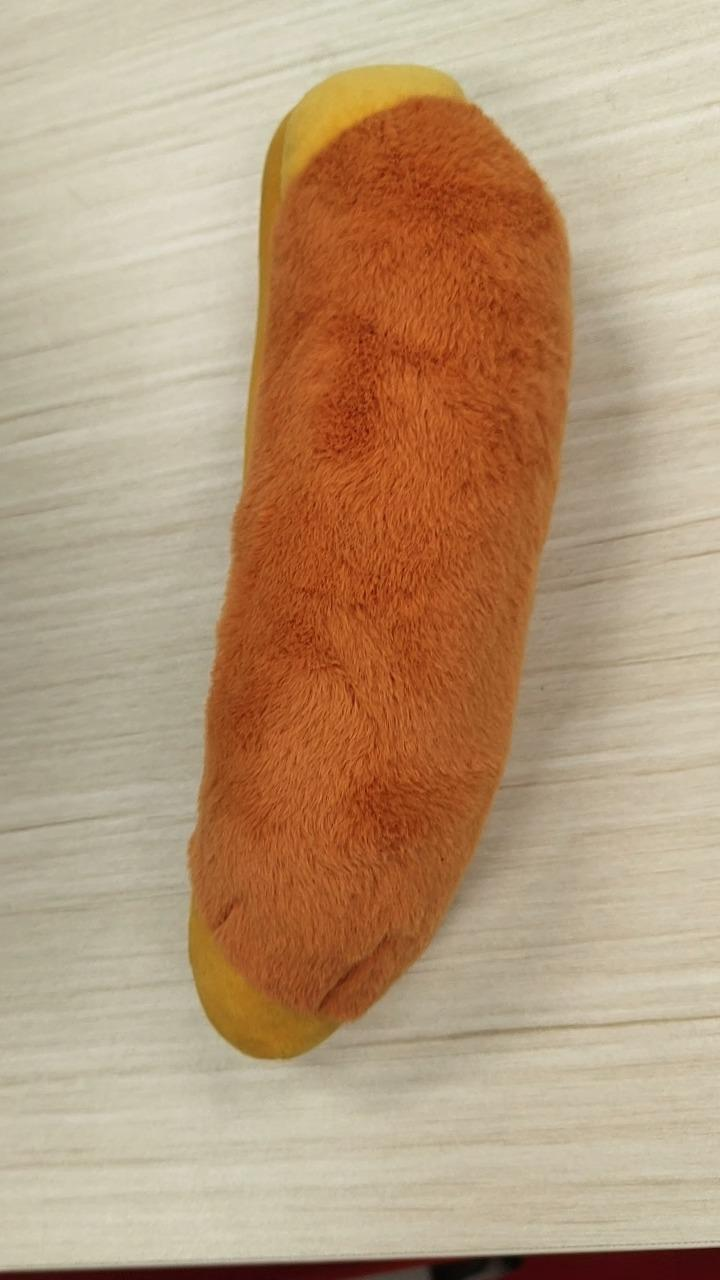hotdog: (185, 61, 574, 1060)
